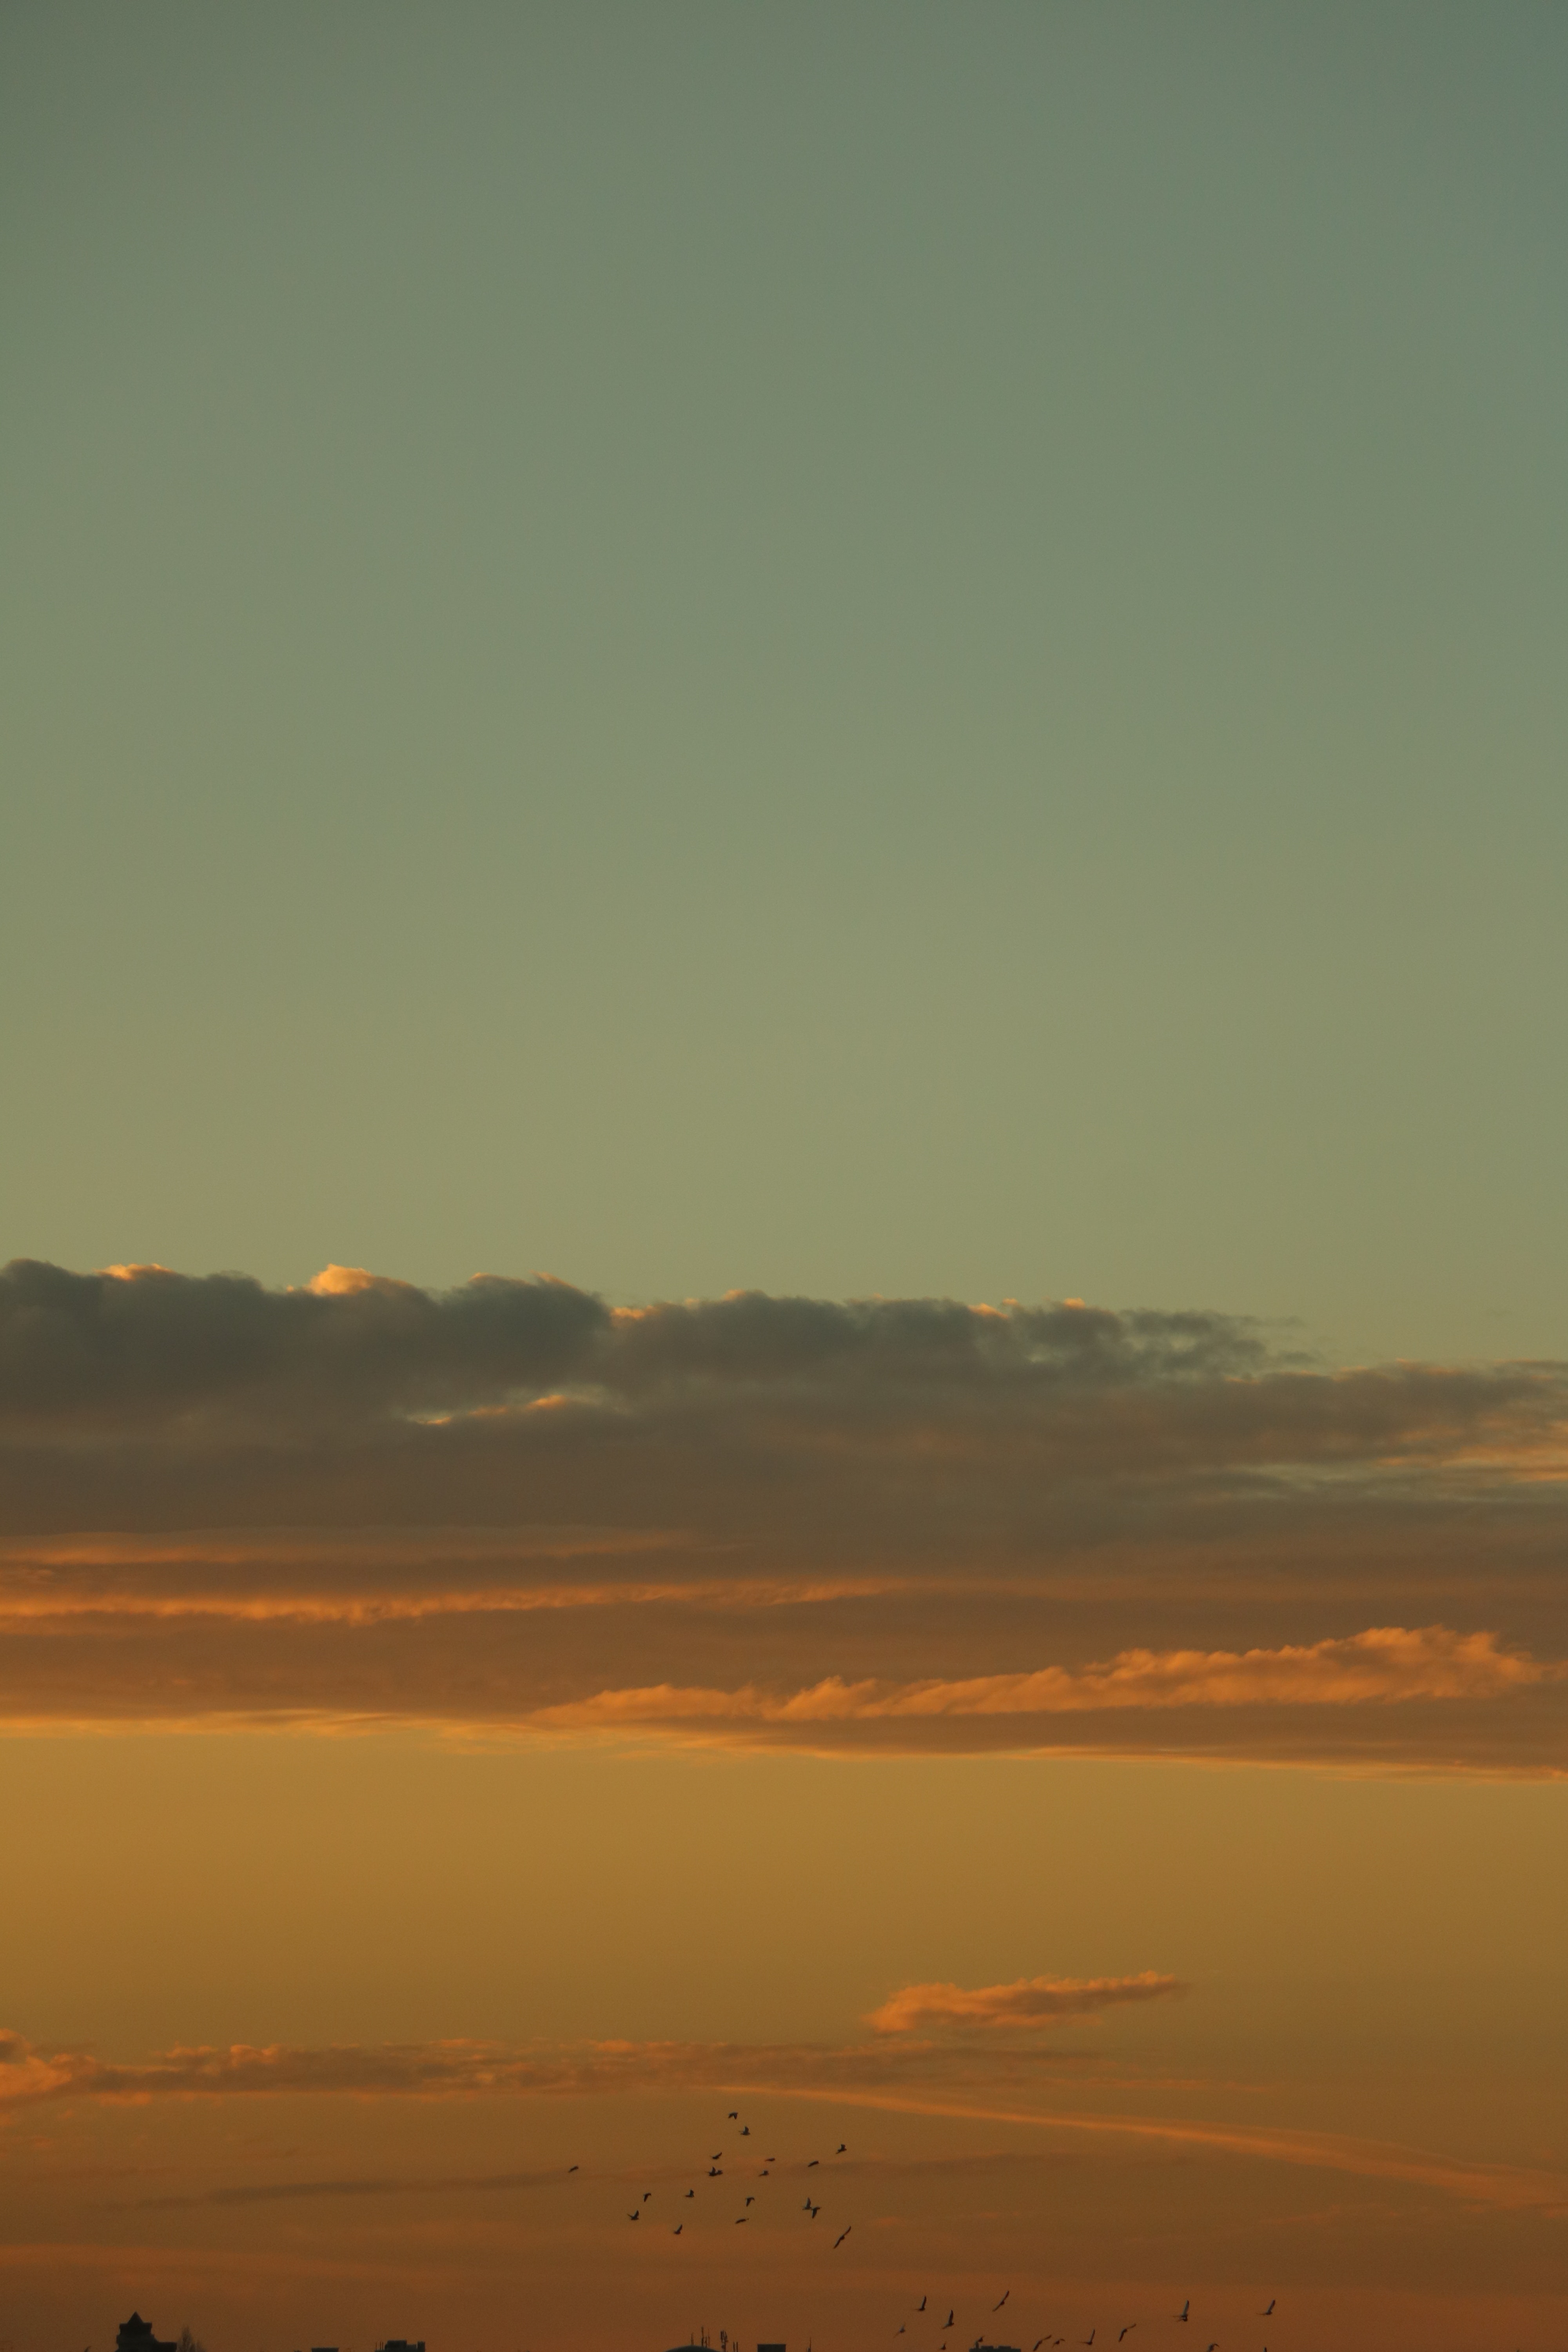Stratus: (7, 1209, 1568, 1817), (9, 1934, 1568, 2216)
